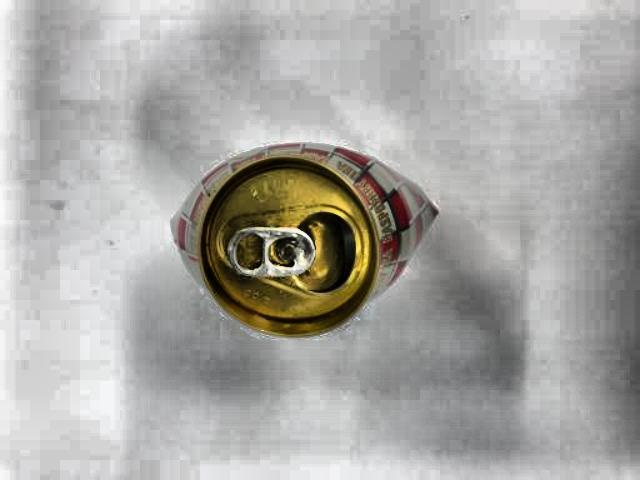Bottles: (173, 141, 453, 336)
